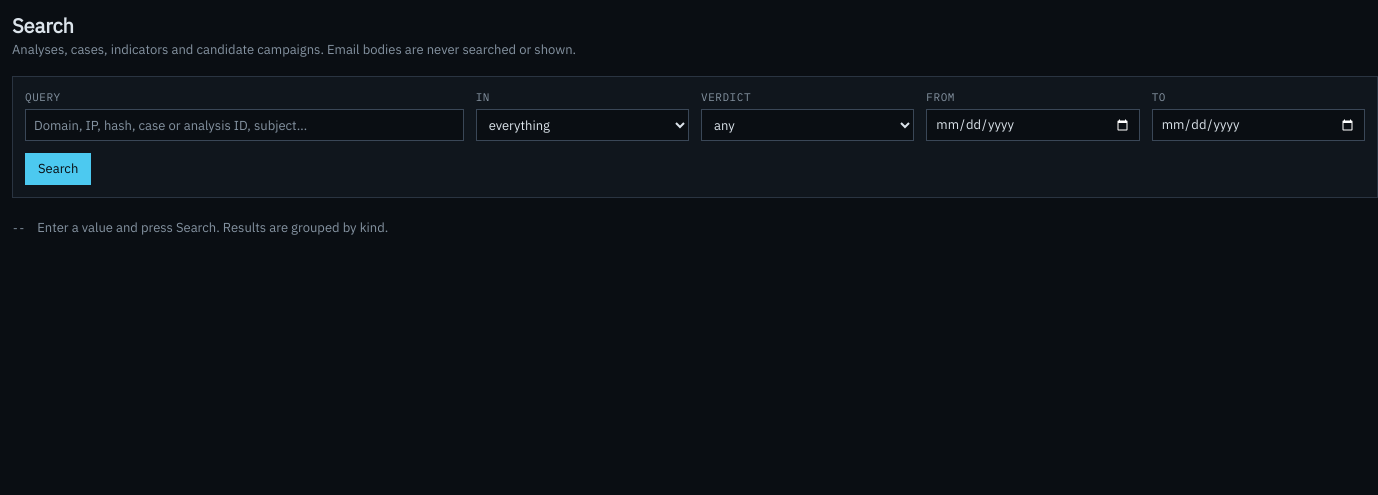
Test: Search page › sends filters, renders results without bodies and paginates
Type "vendor" into the field.
click(244, 125); type("vendor")  # box [25,109,464,141]
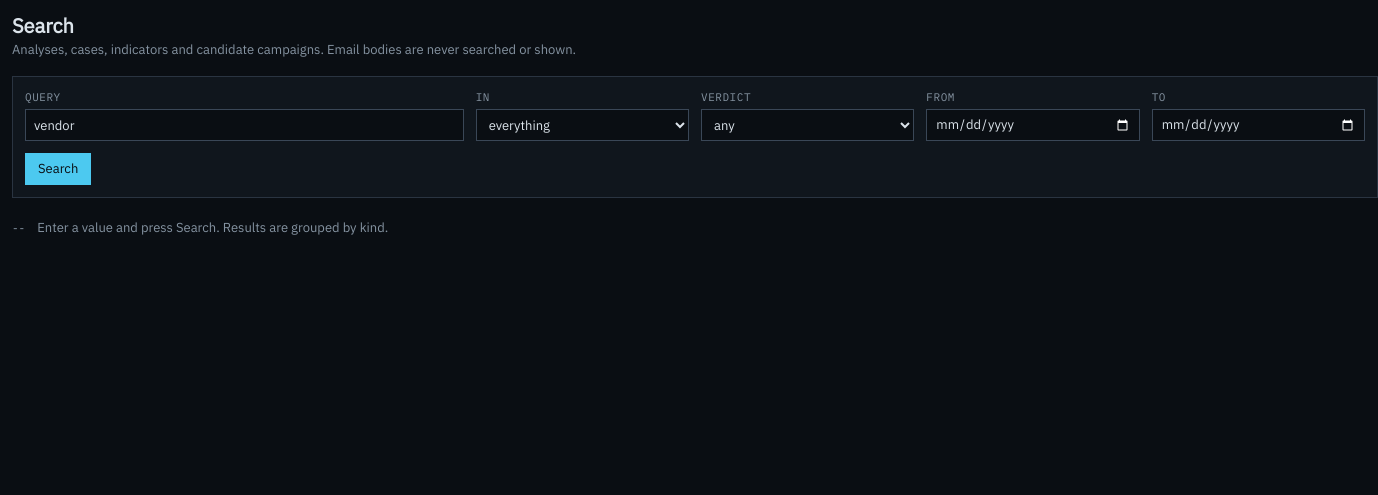
Select "suspicious" in the dropdown showing "any" at (808, 125), box [701,109,914,141]
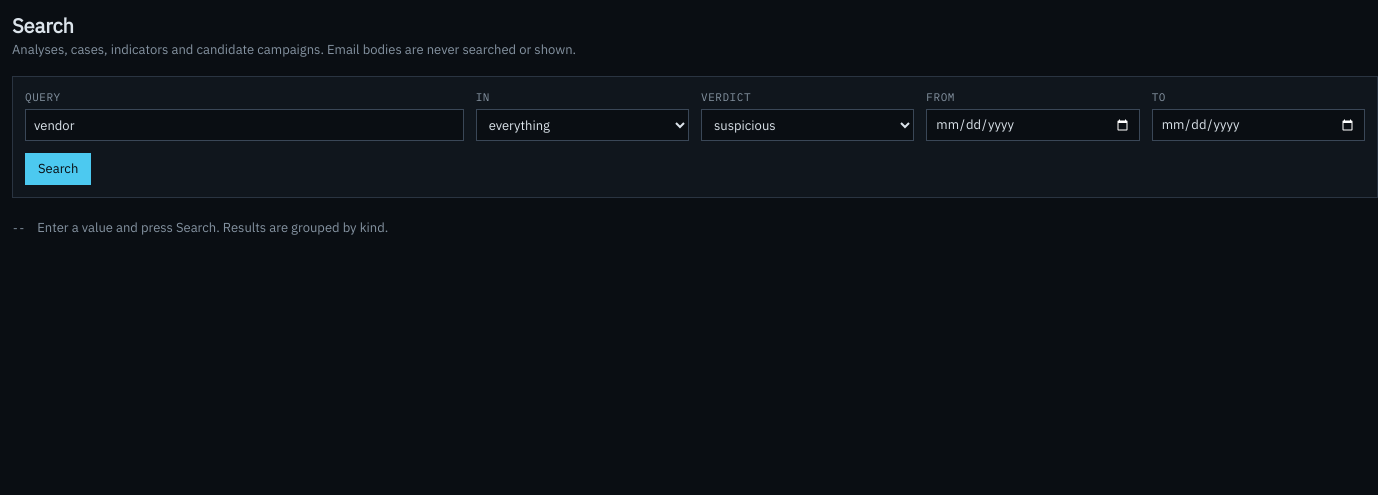
Click the button "Search".
click(58, 169)  # box [25,153,91,185]
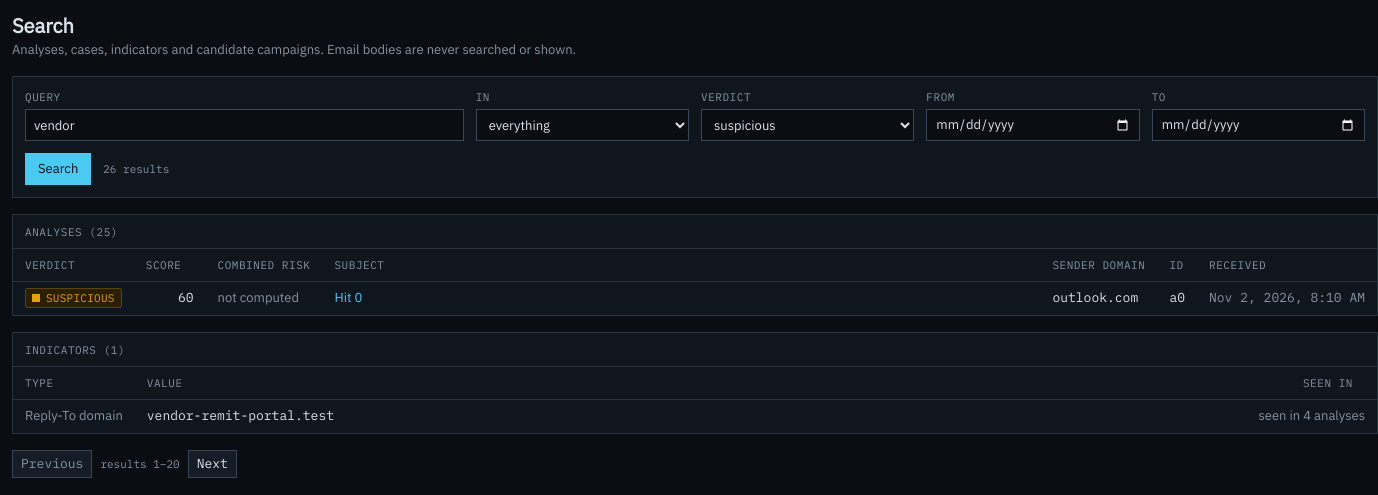
Result: the link "Hit 0" is shown at [334,289,362,306]
Result: the element with test id "search-entities" shows "seen in 4 analyses" at [13,367,1377,433]
Click the button "Next".
click(212, 464)  # box [188,450,237,478]
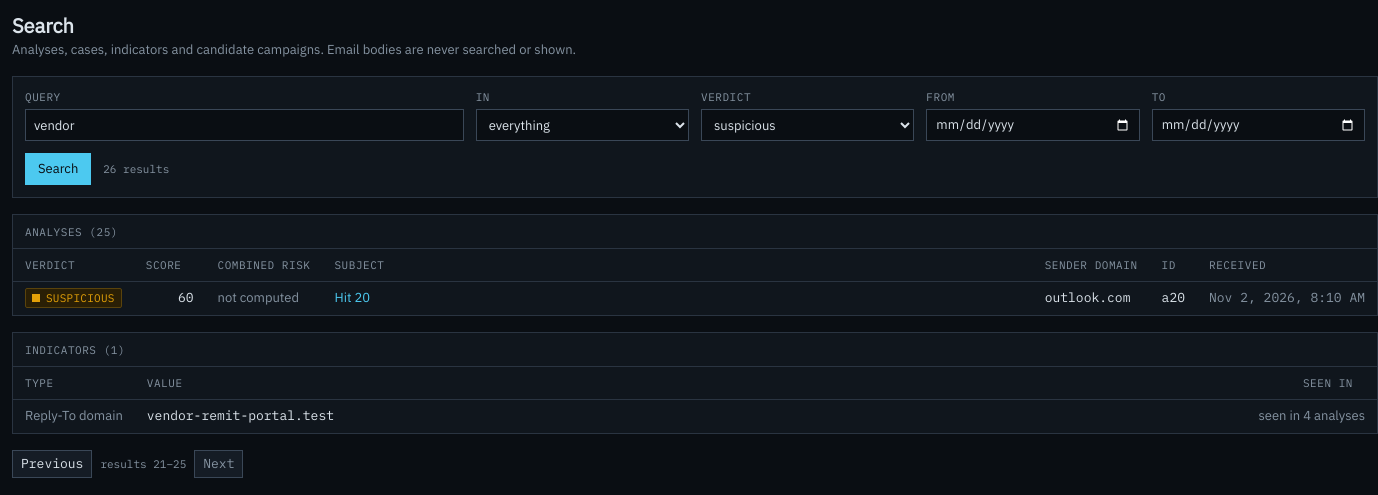
Result: the link "Hit 20" is shown at [334,289,370,306]
